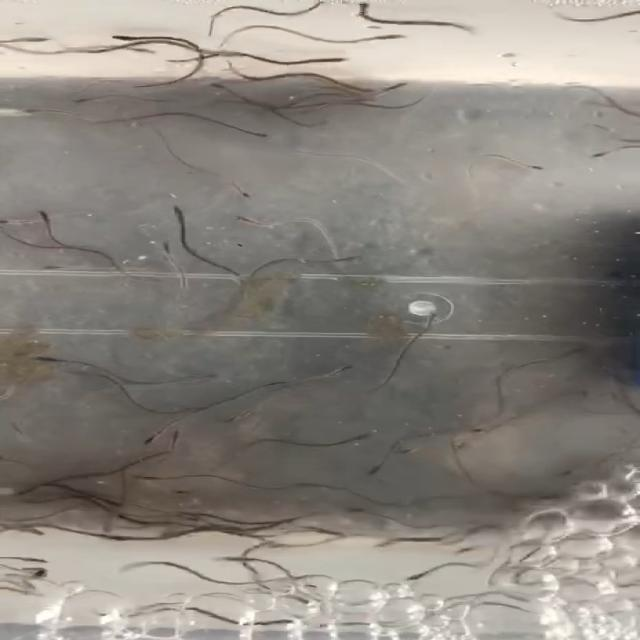active_glass_eel: (354, 74, 412, 91), (413, 309, 448, 331), (8, 98, 56, 114), (132, 426, 172, 445), (71, 90, 118, 106), (212, 408, 253, 426), (108, 554, 141, 576), (18, 522, 54, 542), (394, 570, 432, 588), (159, 424, 192, 444), (224, 185, 264, 201), (454, 425, 494, 441), (434, 542, 482, 555), (396, 438, 427, 458), (194, 78, 232, 94), (342, 0, 385, 14), (354, 457, 382, 478), (232, 212, 265, 229), (208, 551, 242, 567), (330, 251, 371, 264), (157, 242, 190, 258), (352, 427, 381, 445), (96, 34, 136, 46), (15, 552, 54, 564), (312, 55, 351, 67), (580, 145, 616, 158), (0, 214, 29, 230), (38, 259, 66, 275), (160, 204, 192, 218), (124, 470, 157, 483), (22, 29, 49, 44), (28, 353, 68, 363), (324, 363, 356, 375), (373, 32, 406, 43), (363, 540, 399, 550), (34, 209, 55, 226), (519, 160, 545, 172), (247, 130, 273, 141)
